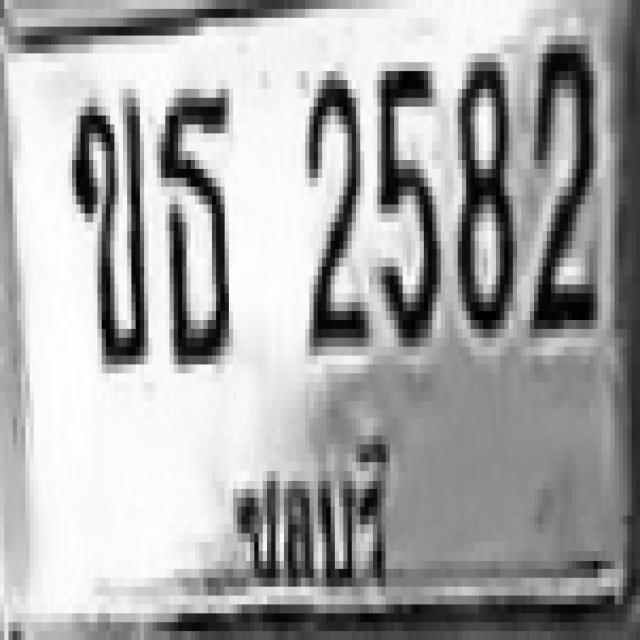11KhorKhai: (68, 89, 146, 368)
2: (531, 35, 595, 328), (306, 69, 365, 345)
33ThorThong: (155, 80, 231, 364)
5: (377, 64, 441, 348)
8: (456, 52, 512, 337)
Chonburi: (231, 419, 407, 626)
